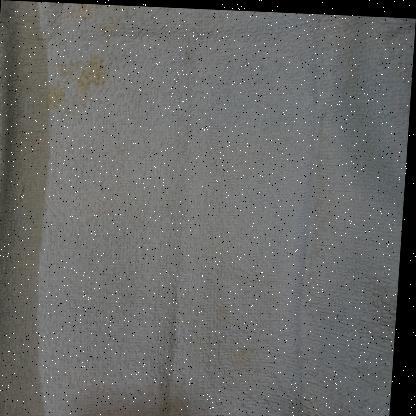spot: (37, 43, 109, 123), (65, 2, 162, 44)
